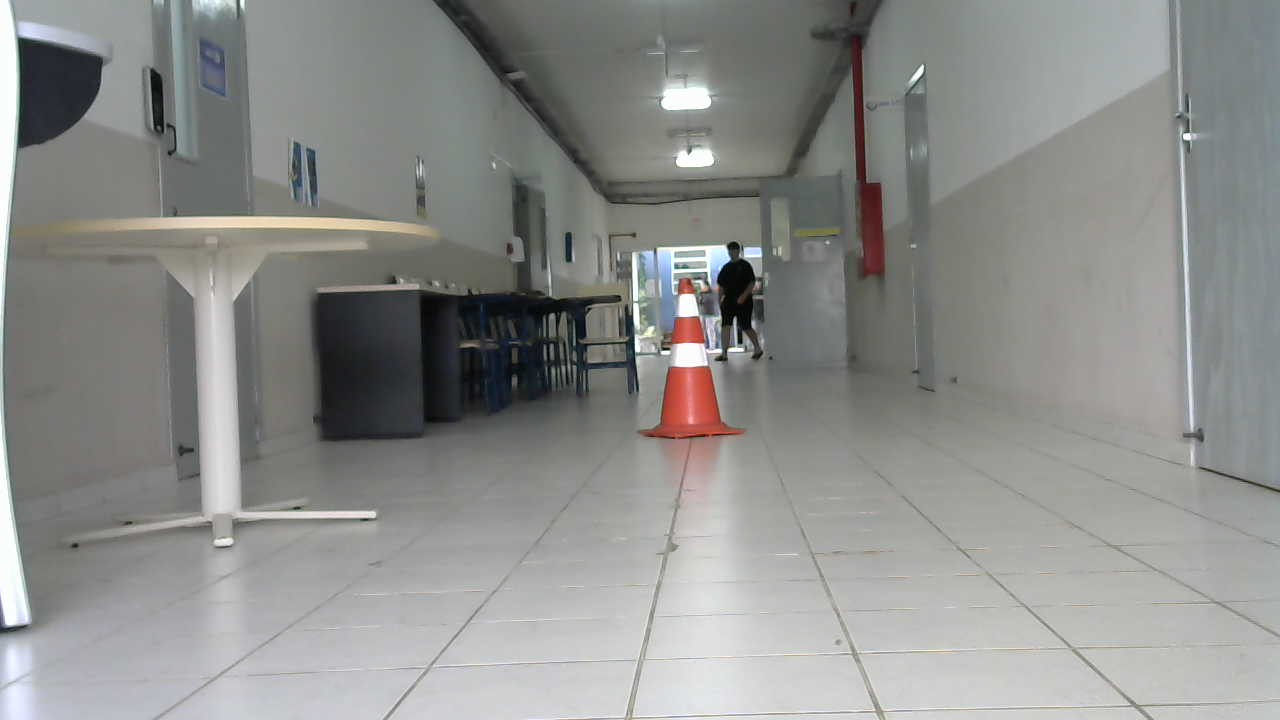cone: (643, 280, 737, 439)
